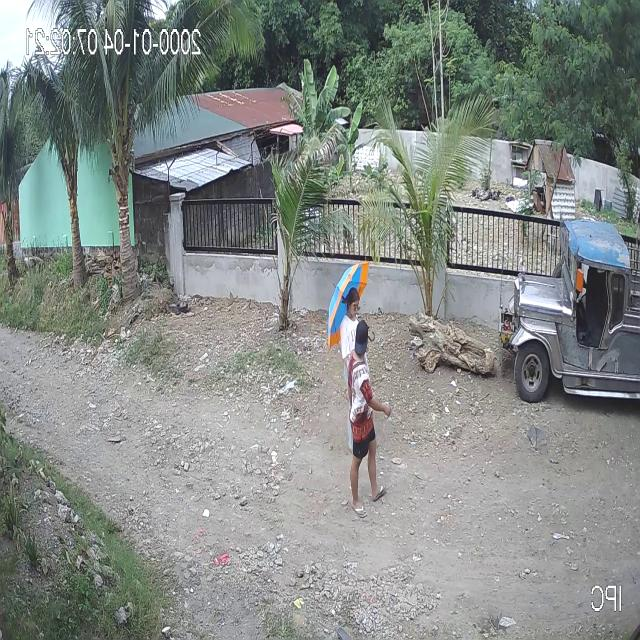walking: (326, 256, 377, 458), (346, 314, 392, 518)
